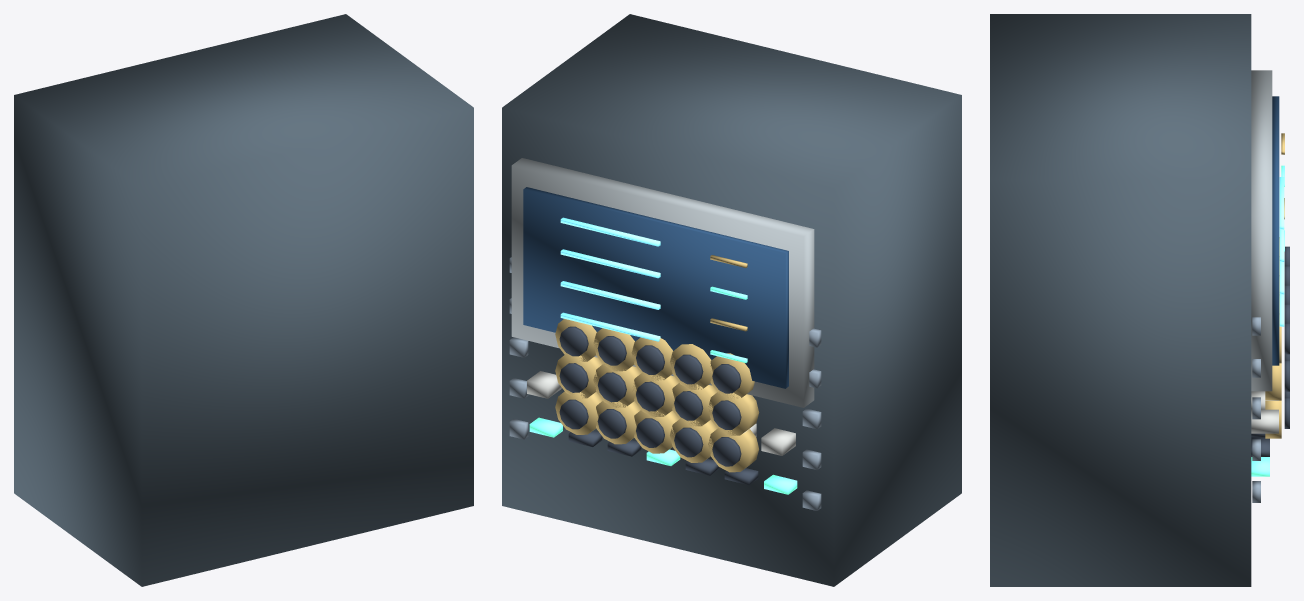
File: L84_47_AttitudeFlightController_Fitted.fbx
3 views of the same model, side by side, from view 1: azimuth 30°, elevation 25°; view 2: azimuth 150°, elevation 25°; view 3: azimuth 270°, elevation 25° (orthographic). The views are drawn at different scales.
Visible parts, largest first — view 1: L84_AttitudeFlightController_Static__tint1C2933; view 2: L84_AttitudeFlightController_Static__tint1C2933, L84_AttitudeFlightController_Static__tint0B214A, L84_AttitudeFlightController_Static__tint91A3AD, L84_AttitudeFlightController_Static__tintF2B547, L84_AttitudeFlightController_Static__tint131B26, L84_AttitudeFlightController_Static__tint59738F, L84_AttitudeFlightController_Static__tint38CCFC, L84_AttitudeFlightController_Static__tint2BF0A8, L84_AttitudeFlightController_Static__tintCCD4CF; view 3: L84_AttitudeFlightController_Static__tint1C2933, L84_AttitudeFlightController_Static__tint91A3AD, L84_AttitudeFlightController_Static__tint0B214A, L84_AttitudeFlightController_Static__tint131B26, L84_AttitudeFlightController_Static__tintF2B547, L84_AttitudeFlightController_Static__tint59738F, L84_AttitudeFlightController_Static__tint38CCFC, L84_AttitudeFlightController_Static__tintCCD4CF, L84_AttitudeFlightController_Static__tint2BF0A8.
Boxes of the visible parts, box(x1,y1,x2,y2) form: L84_AttitudeFlightController_Static__tint1C2933: box(14, 14, 473, 586); L84_AttitudeFlightController_Static__tint1C2933: box(502, 14, 961, 586); L84_AttitudeFlightController_Static__tint0B214A: box(523, 187, 788, 388); L84_AttitudeFlightController_Static__tint91A3AD: box(511, 158, 814, 407); L84_AttitudeFlightController_Static__tintF2B547: box(555, 255, 759, 472); L84_AttitudeFlightController_Static__tint131B26: box(559, 326, 758, 485); L84_AttitudeFlightController_Static__tint59738F: box(509, 257, 821, 510); L84_AttitudeFlightController_Static__tint38CCFC: box(560, 217, 660, 341); L84_AttitudeFlightController_Static__tint2BF0A8: box(529, 286, 797, 494); L84_AttitudeFlightController_Static__tintCCD4CF: box(527, 371, 795, 455); L84_AttitudeFlightController_Static__tint1C2933: box(990, 14, 1251, 586); L84_AttitudeFlightController_Static__tint91A3AD: box(1251, 70, 1272, 391); L84_AttitudeFlightController_Static__tint0B214A: box(1272, 96, 1279, 365); L84_AttitudeFlightController_Static__tint131B26: box(1251, 246, 1289, 456); L84_AttitudeFlightController_Static__tintF2B547: box(1265, 133, 1284, 438); L84_AttitudeFlightController_Static__tint59738F: box(1252, 317, 1260, 502); L84_AttitudeFlightController_Static__tint38CCFC: box(1279, 177, 1284, 326); L84_AttitudeFlightController_Static__tintCCD4CF: box(1251, 391, 1278, 433); L84_AttitudeFlightController_Static__tint2BF0A8: box(1251, 165, 1284, 476).
Bounding box in the file's own units: 9.6 × 11.01 × 7.35.
